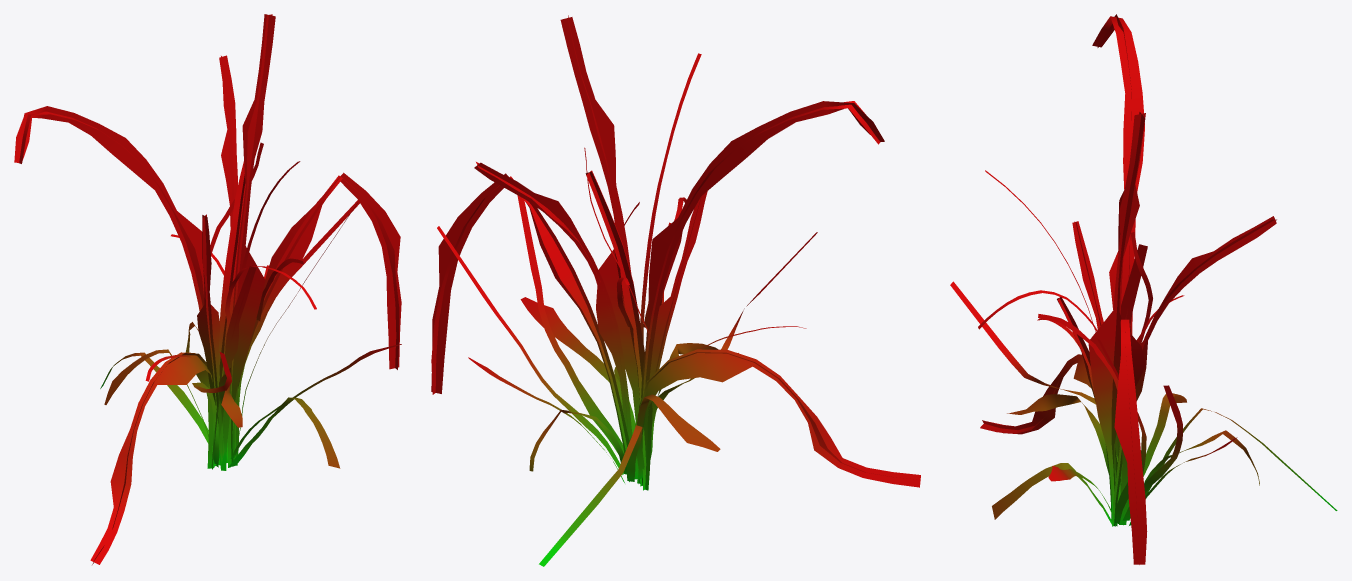
Rendered from slBiJ_Var2_LOD0.fbx.
The picture shows the model from 3 angles, left to right: view 1: azimuth 30°, elevation 25°; view 2: azimuth 150°, elevation 25°; view 3: azimuth 270°, elevation 25°; orthographic projection. The views are drawn at different scales.
Parts seen in each view (by area): view 1: _2ac0_Var2_LOD0; view 2: _2ac0_Var2_LOD0; view 3: _2ac0_Var2_LOD0.
Boxes of the visible parts, x1=… form: _2ac0_Var2_LOD0: x1=14, y1=14, x2=401, y2=564; _2ac0_Var2_LOD0: x1=431, y1=15, x2=920, y2=566; _2ac0_Var2_LOD0: x1=950, y1=14, x2=1337, y2=564.
Bounding box in the file's own units: 56.25 × 57.63 × 45.83.
